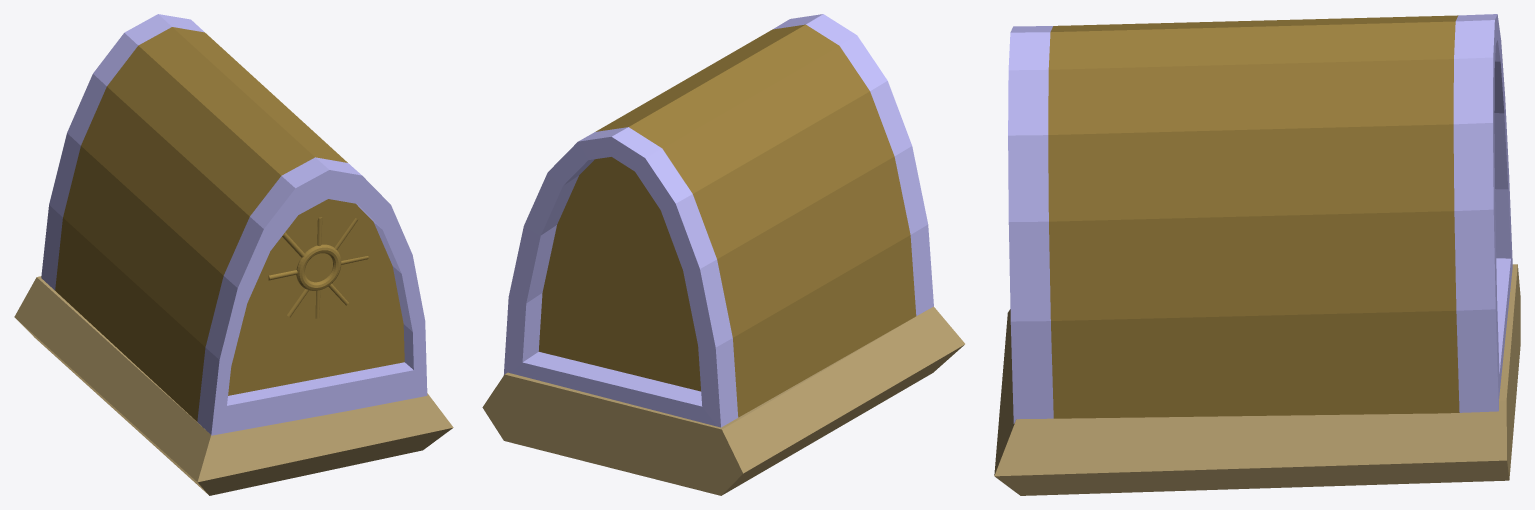
Rendered from door1.fbx.
The picture shows the model from 3 angles, left to right: view 1: azimuth 30°, elevation 25°; view 2: azimuth 150°, elevation 25°; view 3: azimuth 270°, elevation 25°; orthographic projection. The views are drawn at different scales.
Parts seen in each view (by area): view 1: houseSandy.001; view 2: houseSandy.001; view 3: houseSandy.001.
Part boxes in pixels (<box>): houseSandy.001: <box>14,14,453,495</box>; houseSandy.001: <box>482,14,964,495</box>; houseSandy.001: <box>994,14,1520,495</box>.
Bounding box in the file's own units: 342 × 401 × 452.
